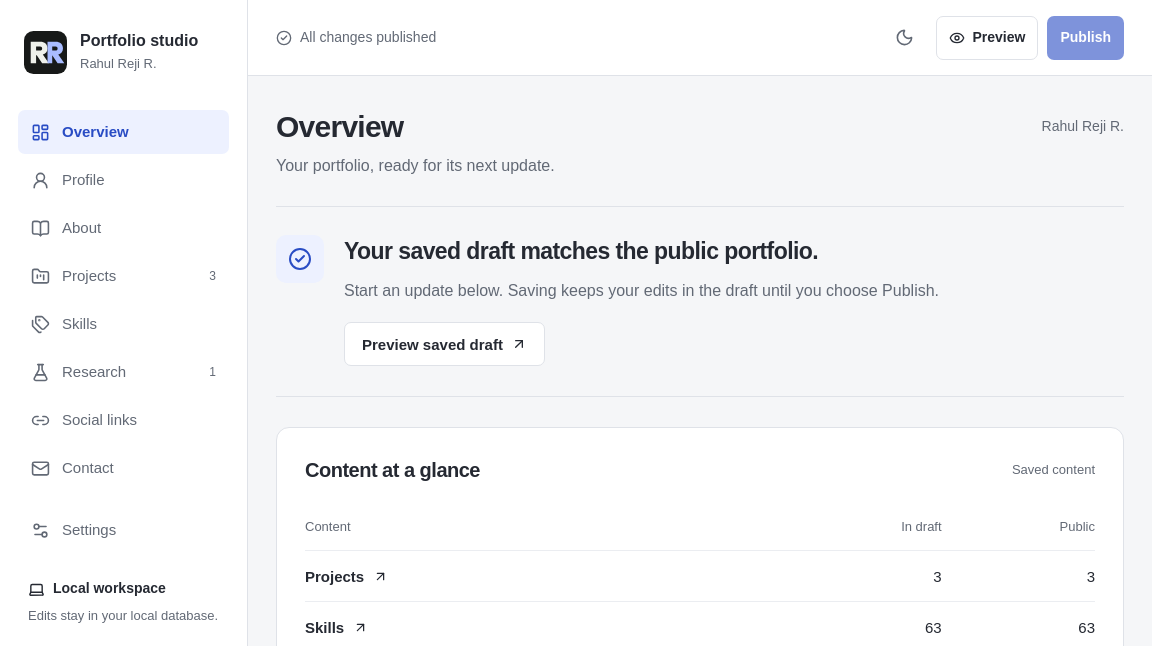
server authenticated workspace › keeps the restored workspace open when navigating between editors
Click the link to "/admin/profile".
click(68, 180)  # box 31,171 -> 104,190
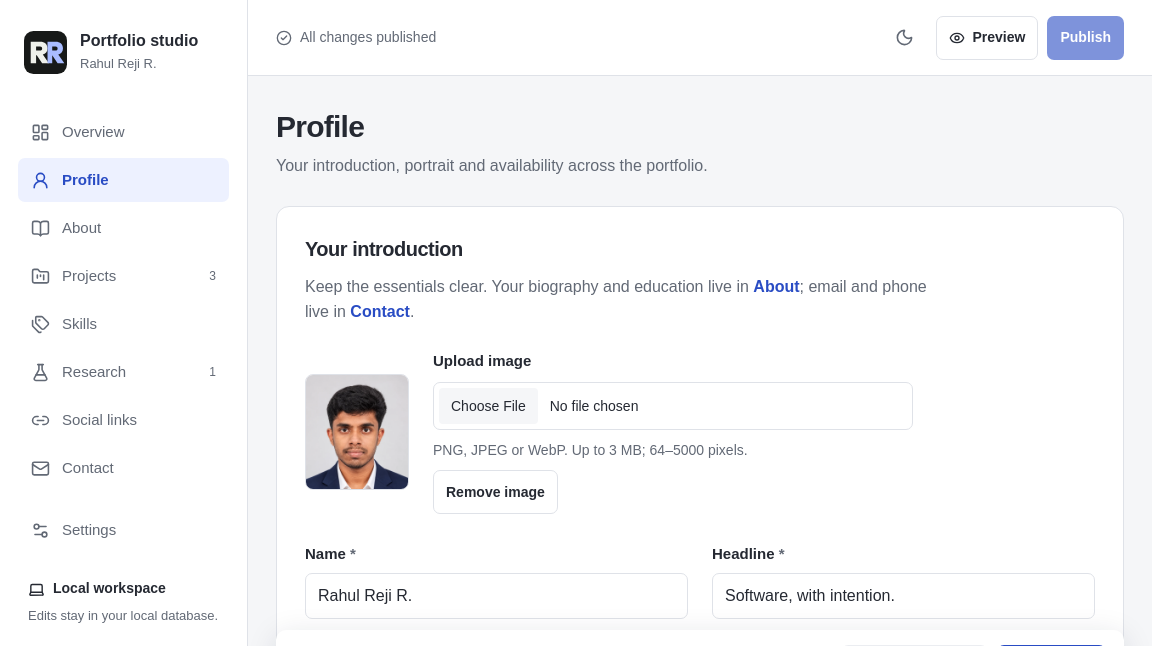
Check: the field labelled "Name" holds "Rahul Reji R.", box 305,573 -> 688,619
